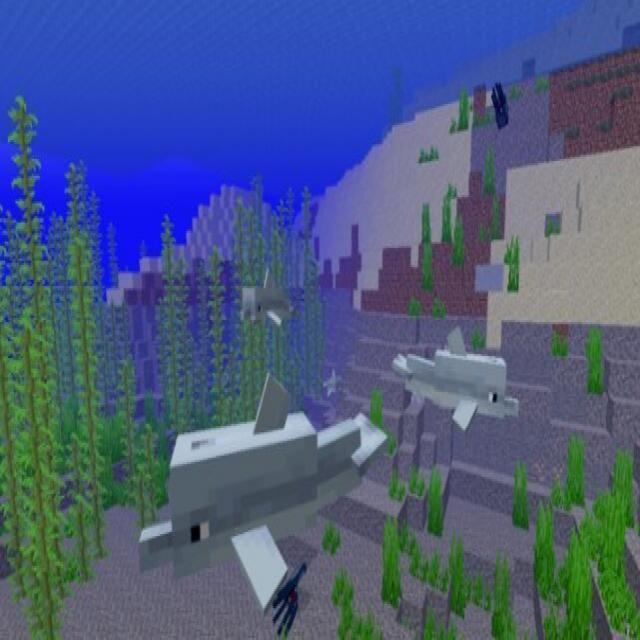Dolphin: (127, 366, 392, 616), (390, 323, 526, 438), (240, 264, 298, 338)
